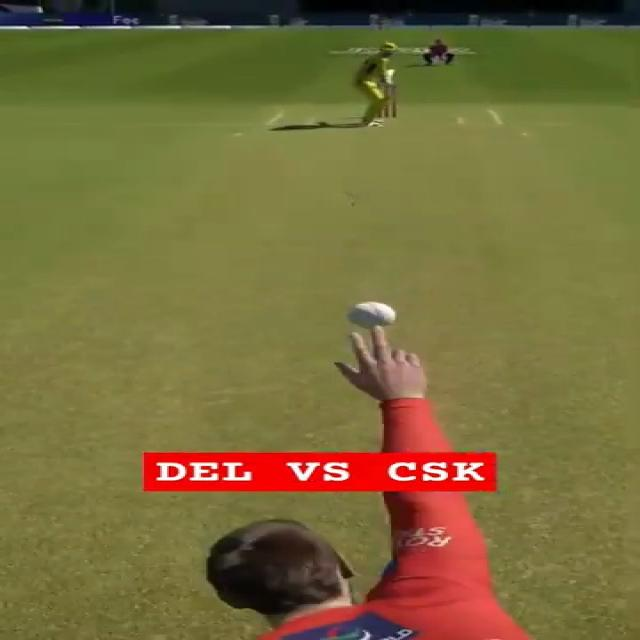ball: (341, 294, 396, 330)
